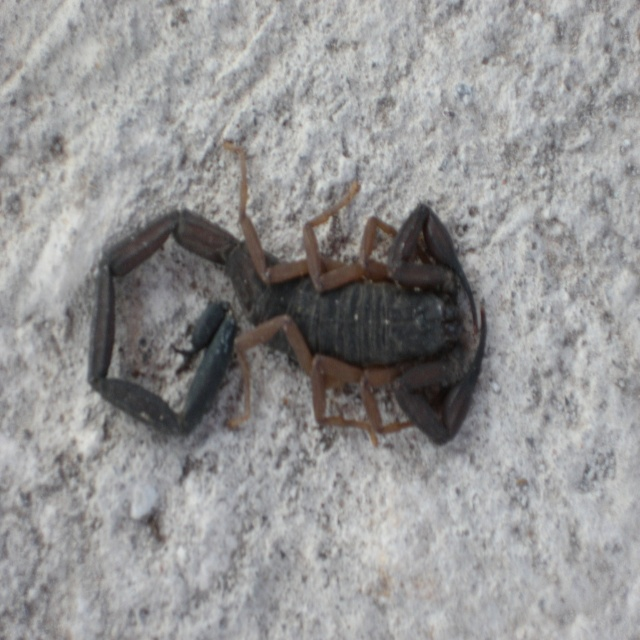Scorpion: (87, 131, 490, 441)
